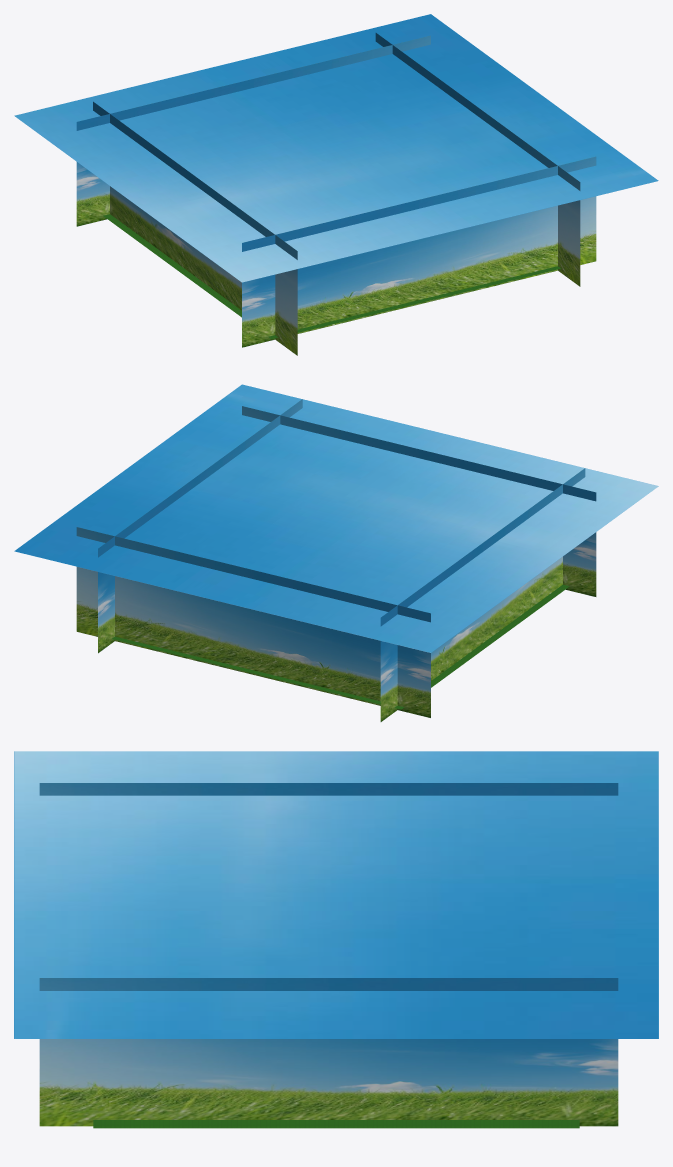
File: game.gltf
3 renders of one model, top to bottom at view 1: azimuth 30°, elevation 25°; view 2: azimuth 150°, elevation 25°; view 3: azimuth 270°, elevation 25°, orthographic. The views are drawn at different scales.
Parts seen in each view (by area): view 1: Plane.002, Plane.003, Plane.005, Plane.004, Plane.006, Floor; view 2: Plane.002, Plane.004, Plane.005, Plane.003, Plane.006, Floor; view 3: Plane.002, Plane.006, Plane.005, Floor.
Part boxes in pixels (x1,y1,x2,y2): Plane.002: [14, 14, 658, 282]; Plane.003: [242, 156, 596, 347]; Plane.005: [93, 101, 297, 355]; Plane.004: [76, 35, 430, 226]; Plane.006: [375, 33, 580, 286]; Floor: [103, 214, 560, 339]; Plane.002: [14, 384, 658, 652]; Plane.004: [76, 527, 430, 717]; Plane.005: [380, 468, 585, 721]; Plane.003: [242, 406, 596, 596]; Plane.006: [98, 399, 302, 653]; Floor: [112, 584, 569, 709]; Plane.002: [14, 751, 658, 1038]; Plane.006: [39, 978, 618, 1126]; Plane.005: [39, 783, 618, 795]; Floor: [93, 1120, 579, 1128].
Bounding box in the file's own units: 833 × 200 × 789.
14 materials, 14 textured.
